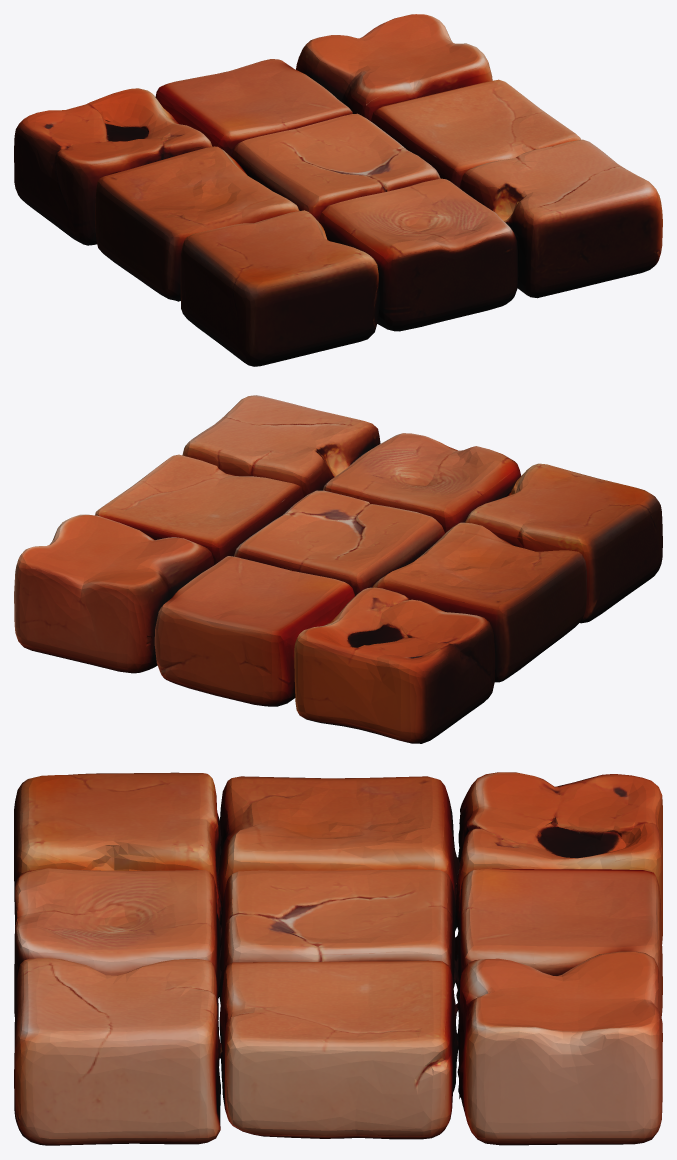
The model's file is terra-cotta-tic-tac-toe-aged-hyperrealistic-furniture.jpeg.glb.
3 renders of one model, top to bottom at view 1: azimuth 30°, elevation 25°; view 2: azimuth 150°, elevation 25°; view 3: azimuth 270°, elevation 25°, orthographic. The views are drawn at different scales.
Parts seen in each view (by area): view 1: world; view 2: world; view 3: world.
Part boxes in pixels (x1,y1,x2,y2): world: (14,14,662,366); world: (14,395,662,743); world: (14,772,662,1145).
Bounding box in the file's own units: 0.9993 × 0.2094 × 0.9996.
1 material, 1 textured.
